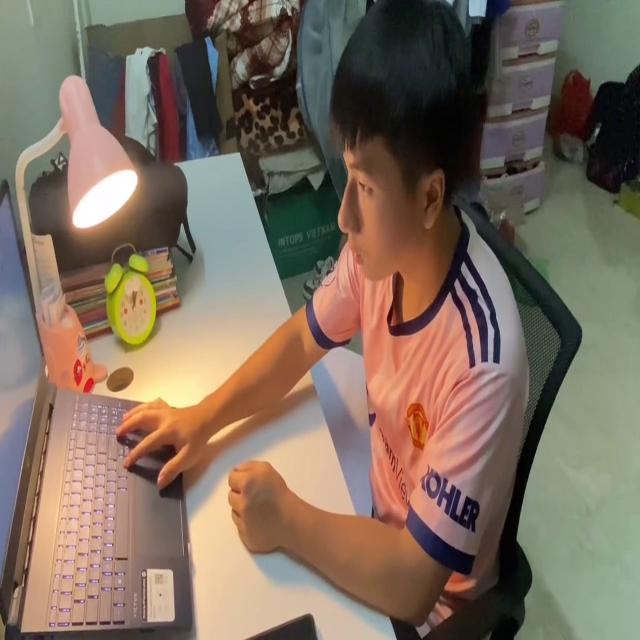book: (308, 324, 373, 529)
laptop: (1, 174, 191, 640)
phone: (250, 606, 316, 640)
student: (114, 0, 527, 637)
